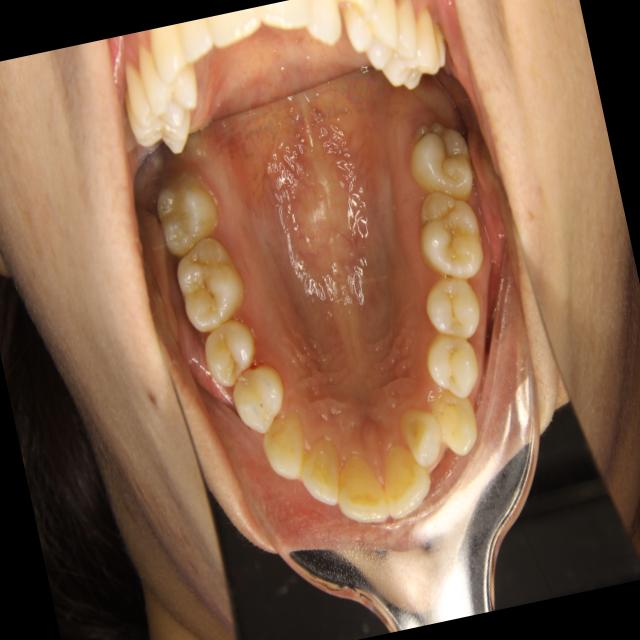tooth: (155, 224, 254, 337), (402, 175, 495, 295), (395, 106, 486, 207), (144, 166, 235, 261), (324, 432, 395, 539), (414, 315, 489, 408), (368, 435, 440, 531), (189, 307, 268, 394), (246, 399, 319, 493), (218, 357, 296, 443), (421, 380, 489, 467), (416, 264, 487, 346), (391, 392, 451, 478), (291, 434, 350, 512)
